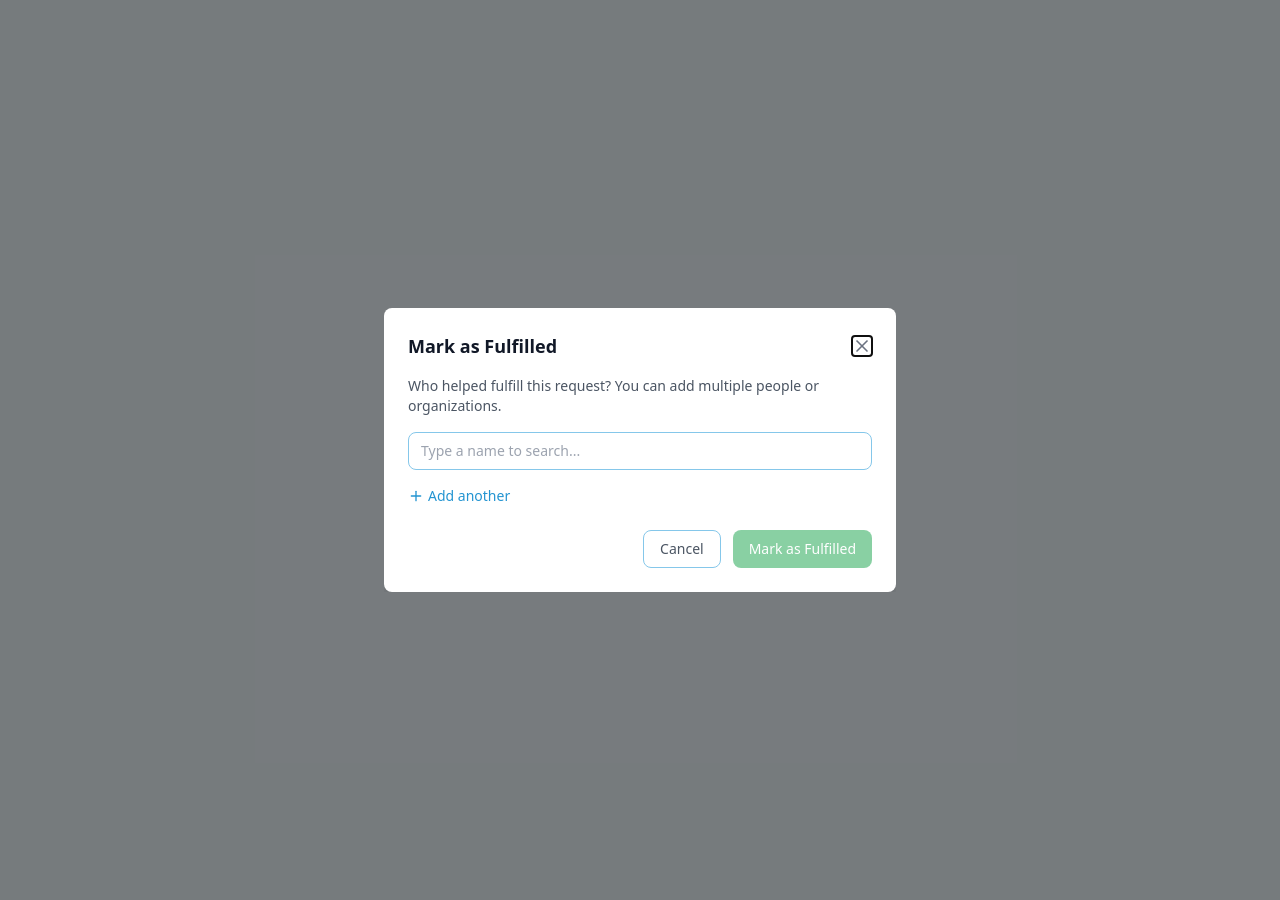
Scenario: FulfillModal — autocomplete › shows search results when typing a name
The image size is (1280, 900).
Type "Bob" into the field with placeholder "Type a name to search...". click: [640, 451]
box: [408,432,872,470]
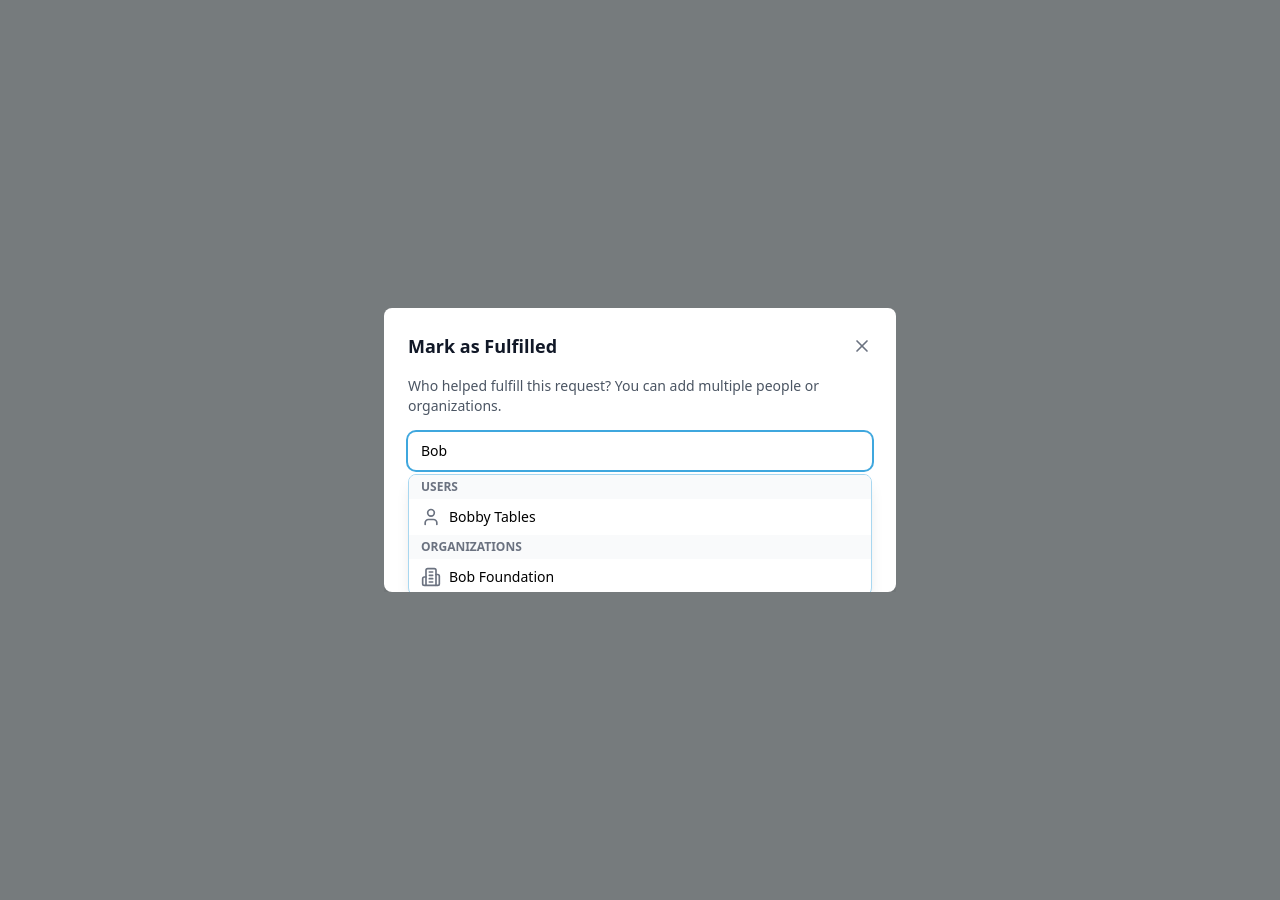
Check: the button "Bobby Tables" is shown, box [409,499,871,535]
Check: the button "Bob Foundation" is shown, box [409,559,871,592]
